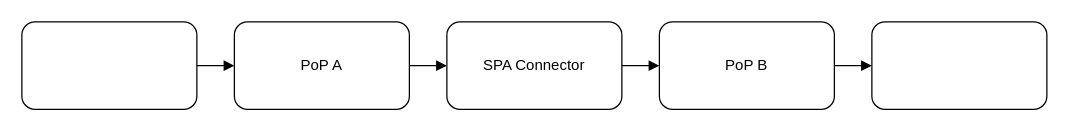
The diagram is 1069 pixels wide and 131 high, and some of its shapes have lost their labels. The shapes that lost their labels are listed below. From the top down, each one's centre as x and y in pixels, then its label:
At pixel 109 65: "Client A".
At pixel 959 65: "Client B".
